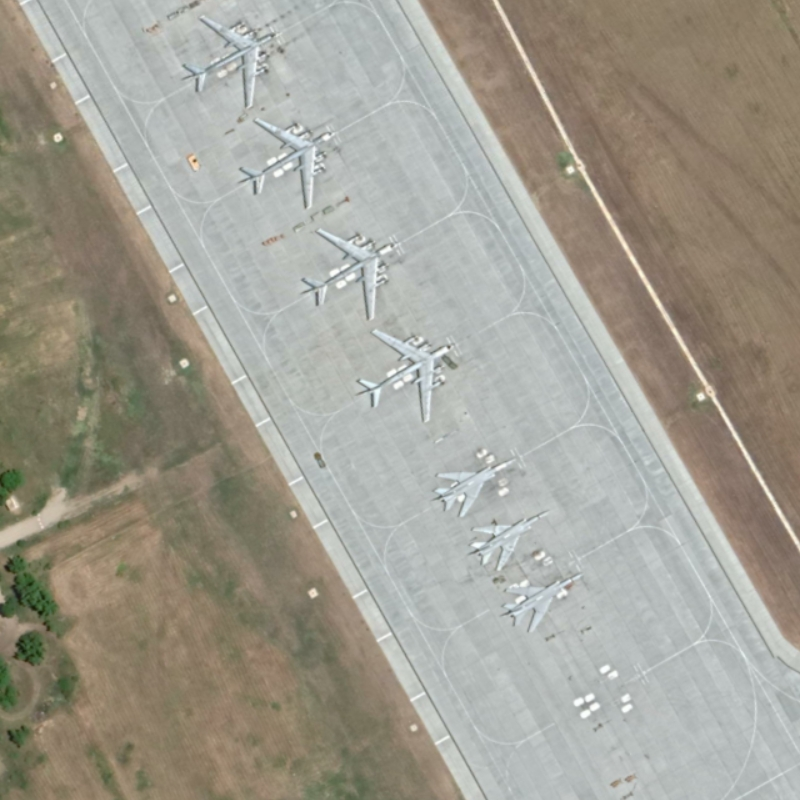A12: (462, 507, 555, 572), (426, 455, 519, 519), (497, 571, 586, 635)
A17: (295, 224, 401, 324), (178, 12, 283, 112), (233, 114, 338, 214), (353, 325, 457, 425)
